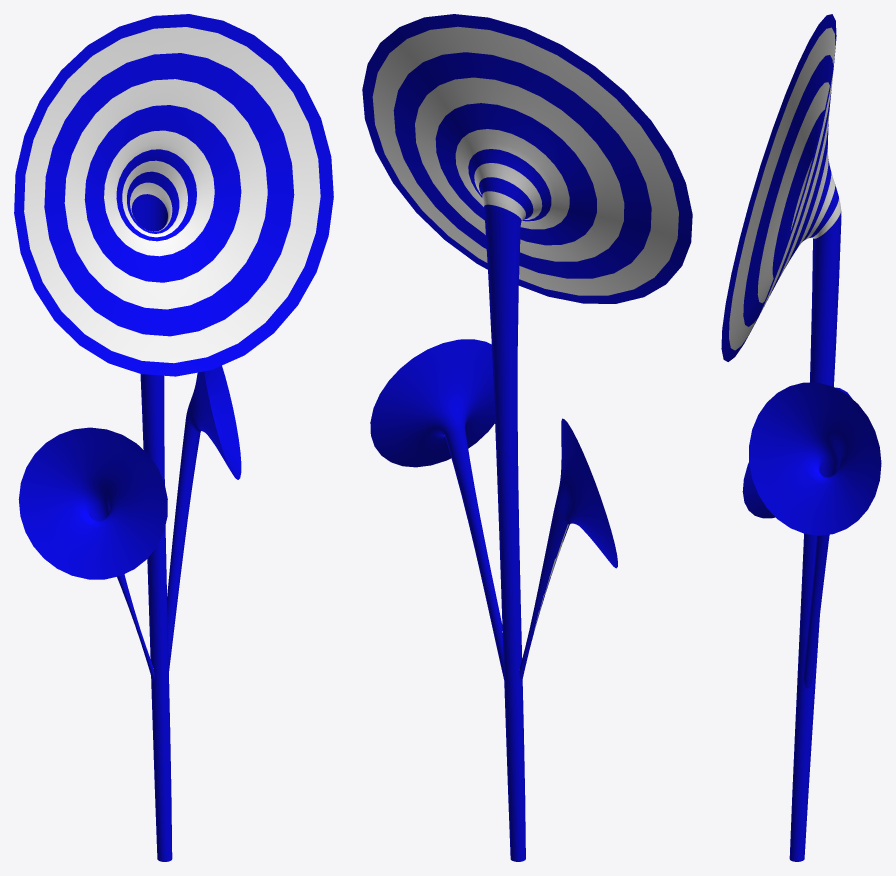
The model's file is Tree_of_sound.fbx.
The picture shows the model from 3 angles, left to right: view 1: azimuth 30°, elevation 25°; view 2: azimuth 150°, elevation 25°; view 3: azimuth 270°, elevation 25°; orthographic projection. The views are drawn at different scales.
Parts seen in each view (by area): view 1: Loft_3; view 2: Loft_3; view 3: Loft_3.
Part boxes in pixels (left/top/right/bottom): Loft_3: left=14, top=14, right=333, bottom=861; Loft_3: left=362, top=14, right=692, bottom=861; Loft_3: left=721, top=14, right=881, bottom=861.
Size of the model in its own units: 2041 by 5133 by 900.
